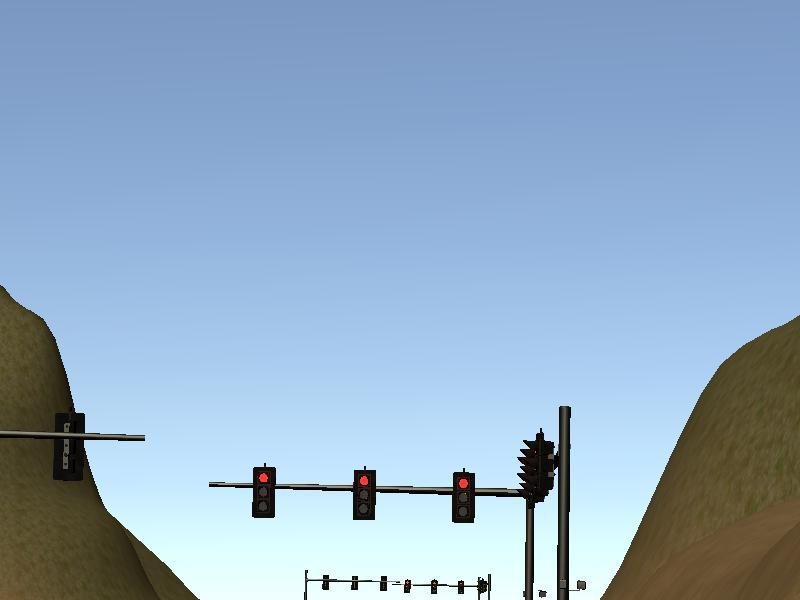Red: (353, 470, 376, 519), (455, 474, 475, 521), (255, 467, 273, 515)
